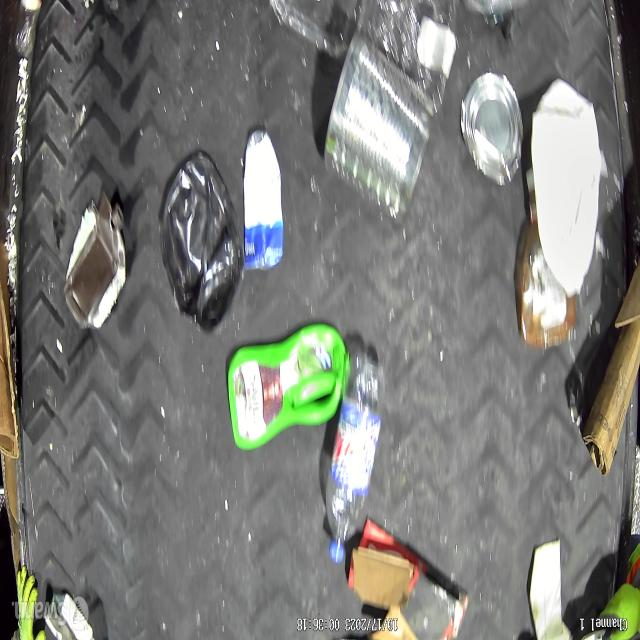can: (457, 72, 523, 188)
milk_jug: (530, 80, 603, 293)
non_white_jug: (228, 324, 354, 452), (159, 153, 243, 336)
plastic_bottle: (325, 352, 382, 565), (12, 0, 43, 55)
